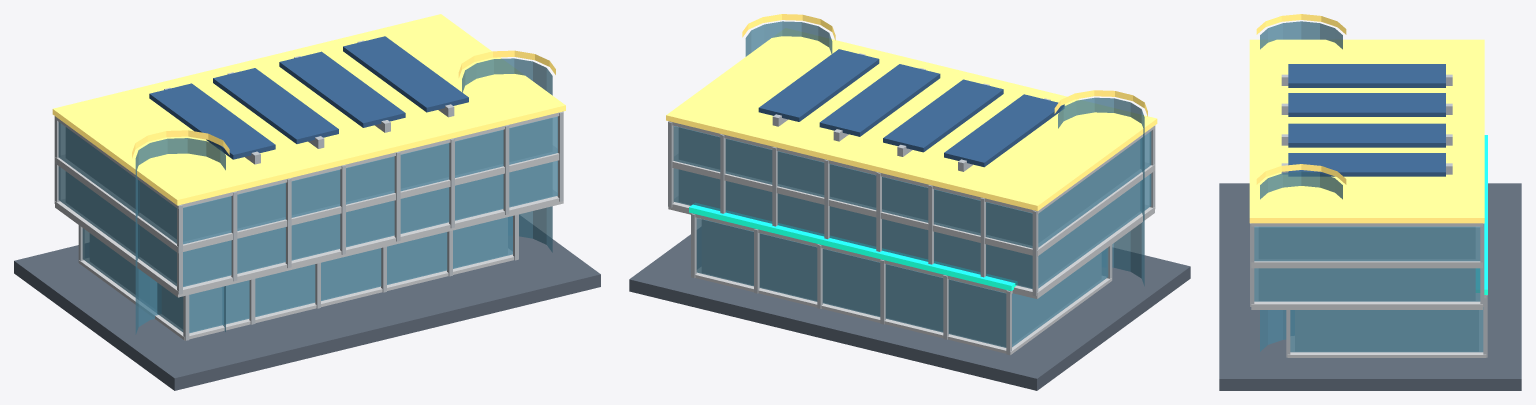
The model's file is vip_skybox_concourse.glb.
The picture shows the model from 3 angles, left to right: view 1: azimuth 30°, elevation 25°; view 2: azimuth 150°, elevation 25°; view 3: azimuth 270°, elevation 25°; orthographic projection. The views are drawn at different scales.
Parts seen in each view (by area): view 1: vip_skybox_concourse; view 2: vip_skybox_concourse; view 3: vip_skybox_concourse.
Boxes of the visible parts, box(x1,y1,x2,y2) form: vip_skybox_concourse: box(14, 14, 600, 390); vip_skybox_concourse: box(629, 14, 1190, 390); vip_skybox_concourse: box(1219, 14, 1521, 390).
Bounding box in the file's own units: 2.82 × 1.24 × 1.84.
